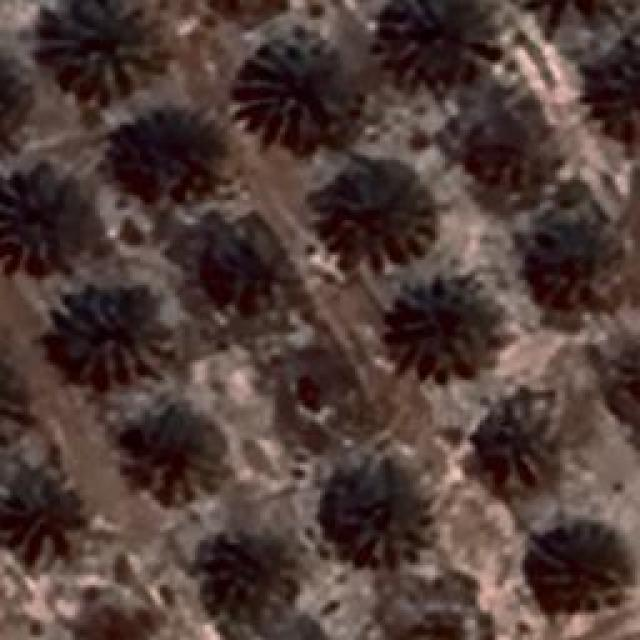PalmTree: (36, 98, 90, 515), (240, 41, 360, 149), (392, 272, 510, 380), (38, 0, 170, 95), (324, 167, 438, 265), (48, 288, 172, 378), (116, 405, 232, 500), (331, 460, 431, 568), (528, 212, 626, 316), (525, 511, 625, 611), (0, 166, 100, 262), (119, 111, 224, 201), (198, 518, 294, 616), (190, 228, 285, 322), (462, 98, 552, 194), (392, 0, 489, 82), (489, 391, 559, 491), (14, 97, 36, 401), (592, 42, 640, 140), (392, 599, 474, 640), (0, 51, 29, 158), (520, 0, 628, 25), (0, 52, 18, 152), (187, 0, 291, 10)
